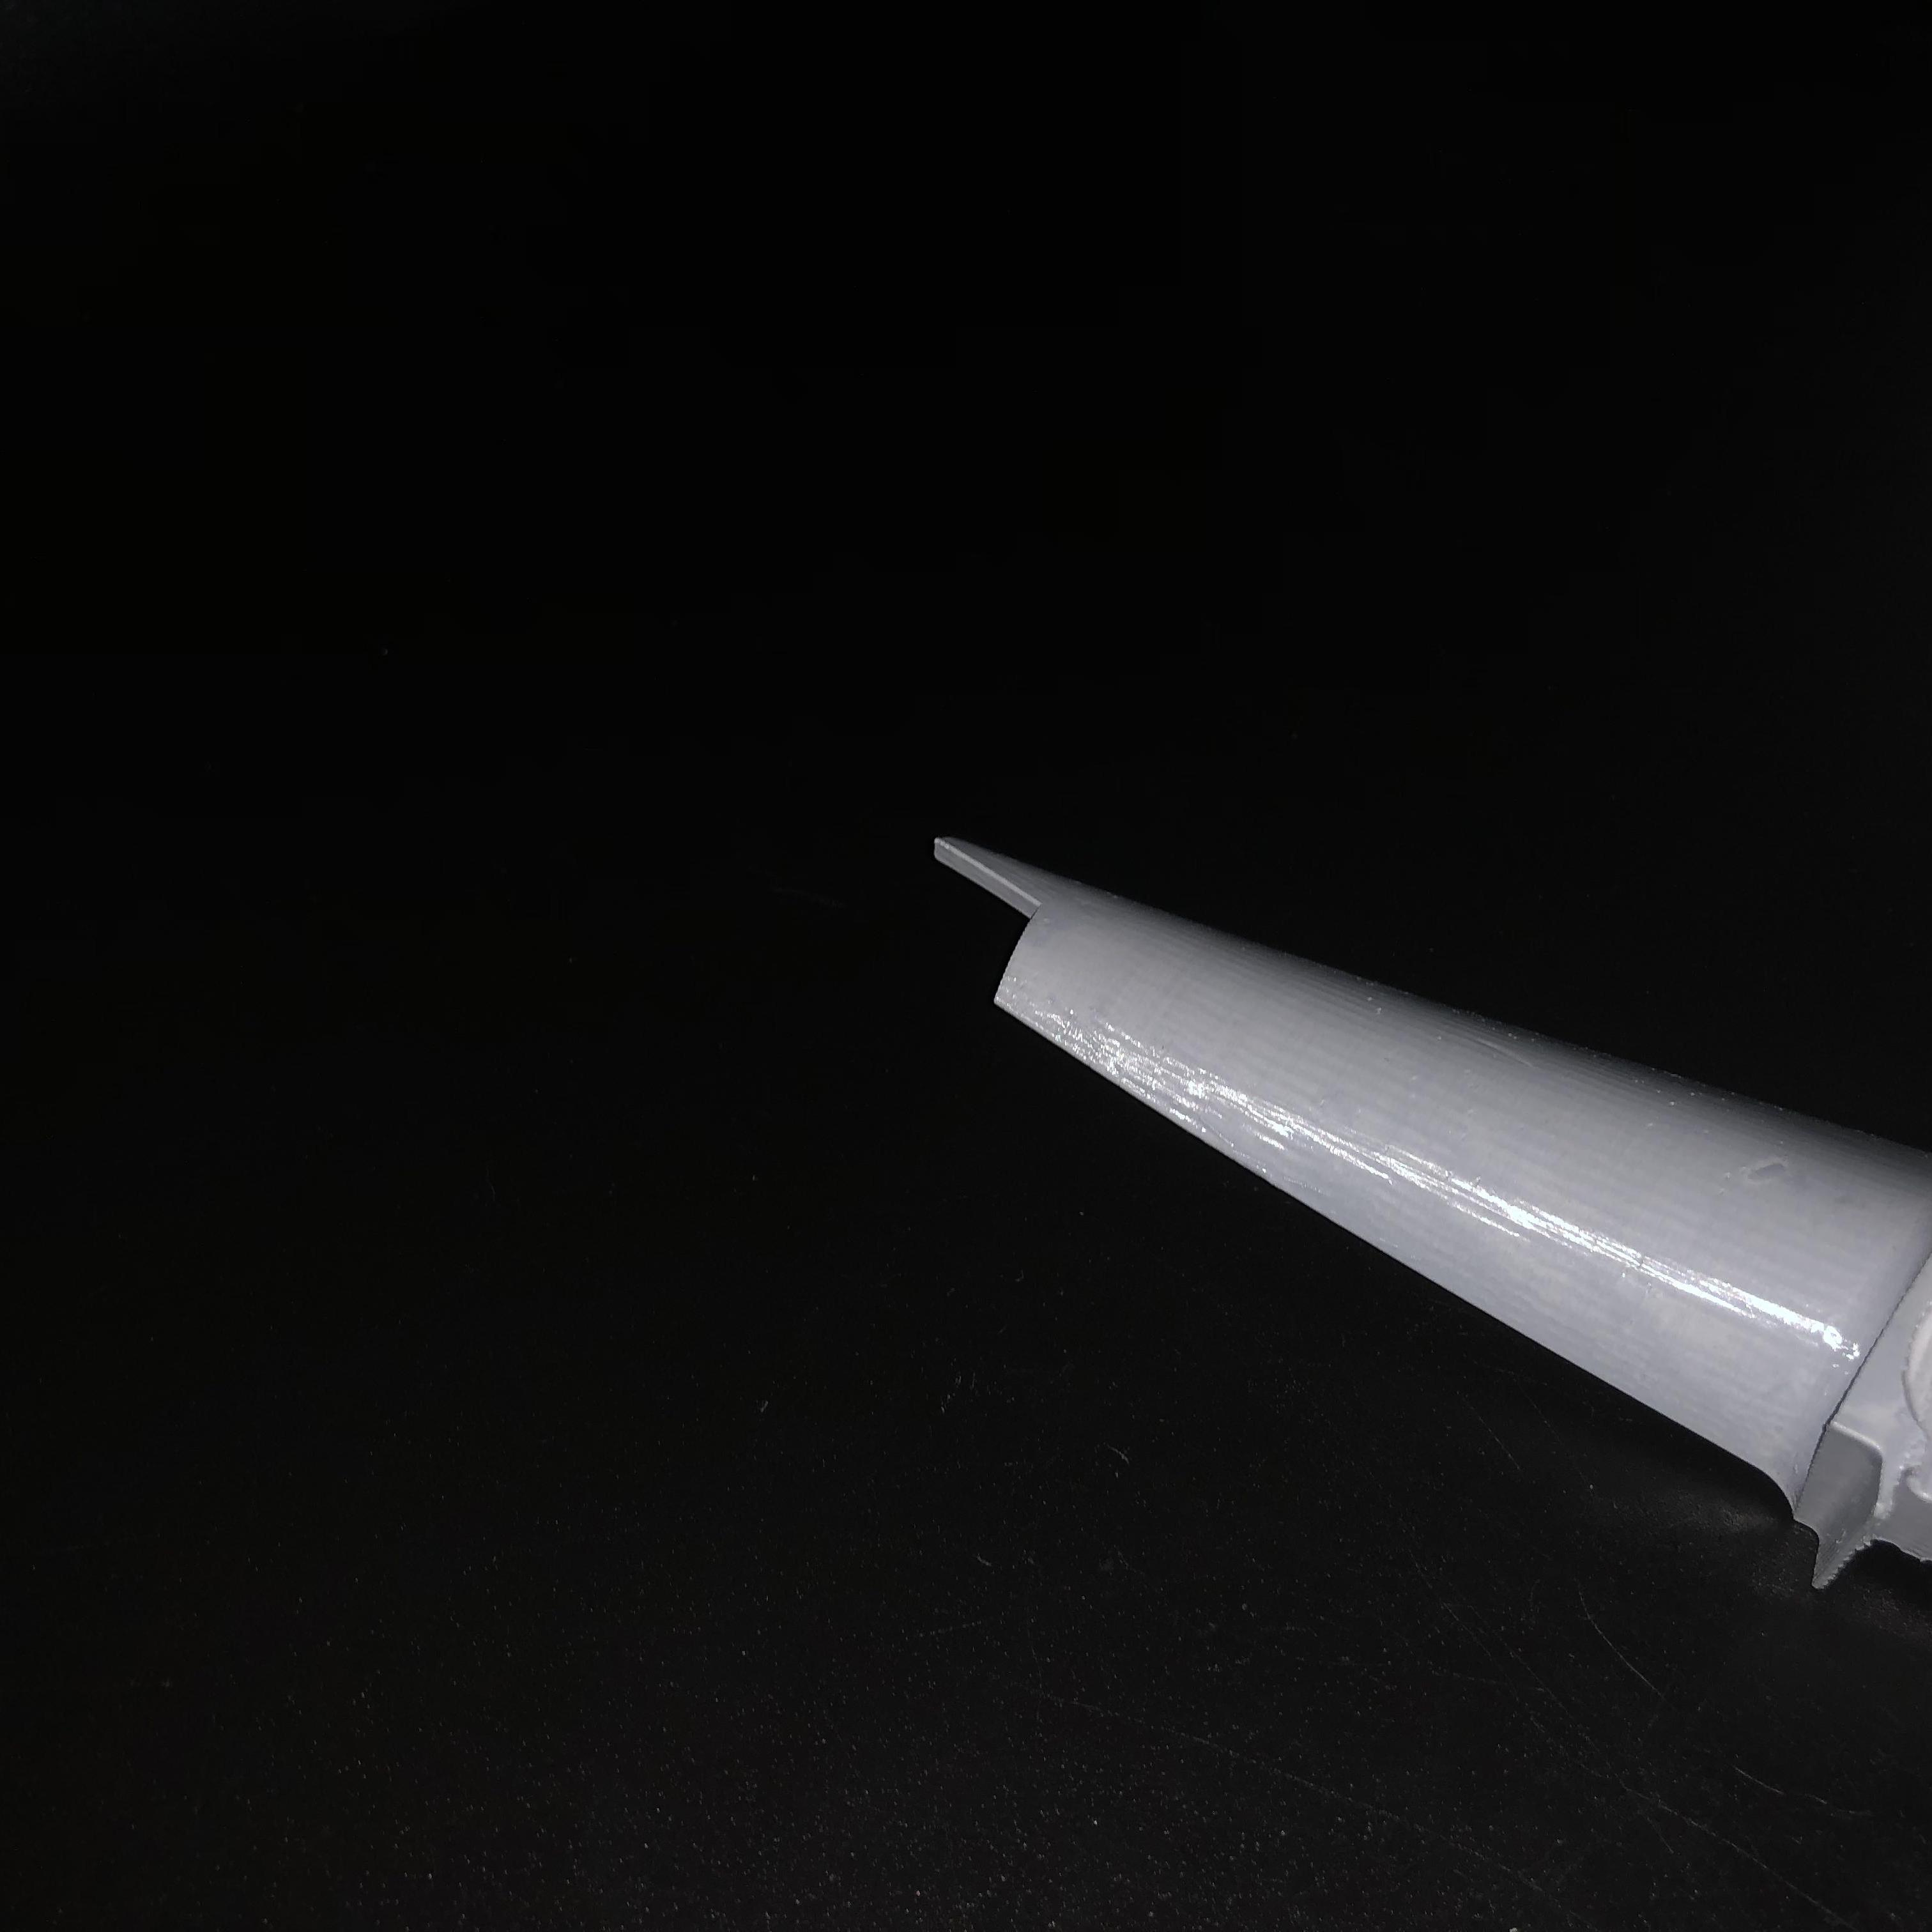fracture: (922, 842, 1067, 1046)
